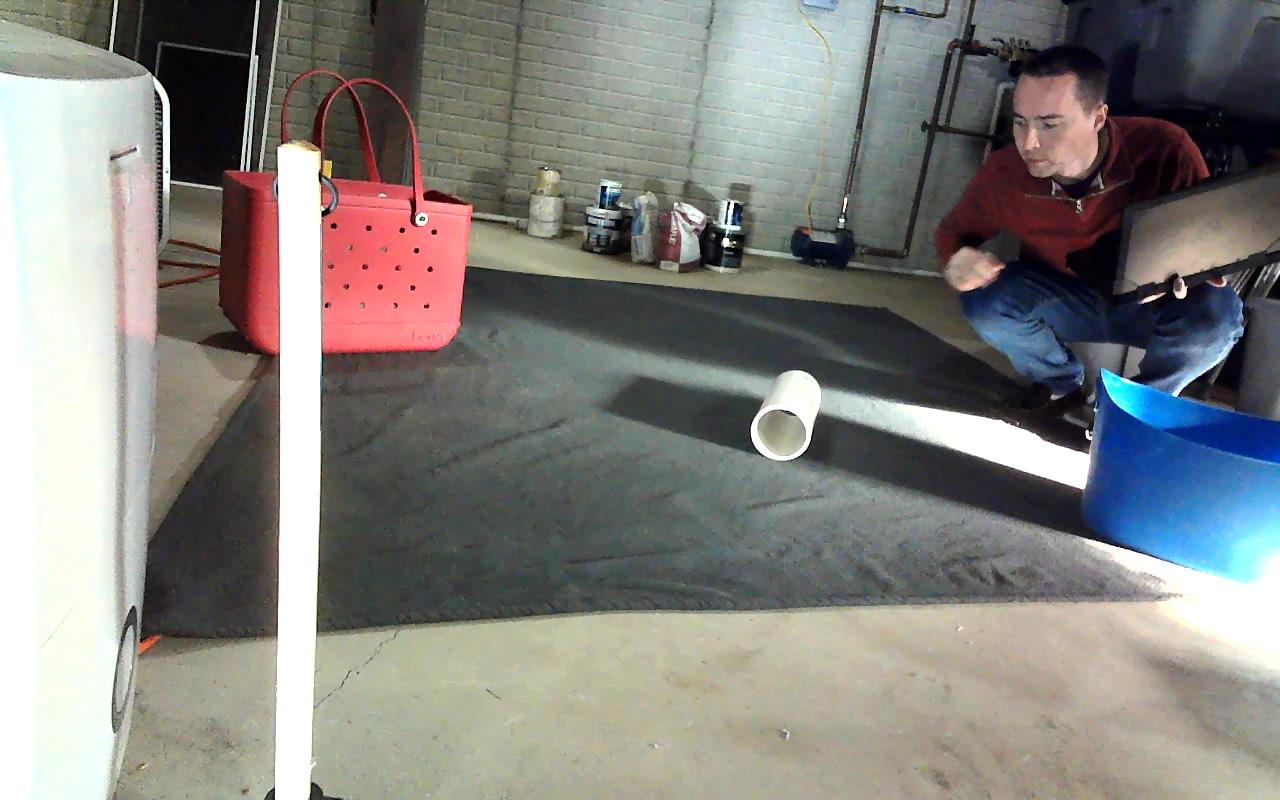coral: (750, 369, 821, 458)
